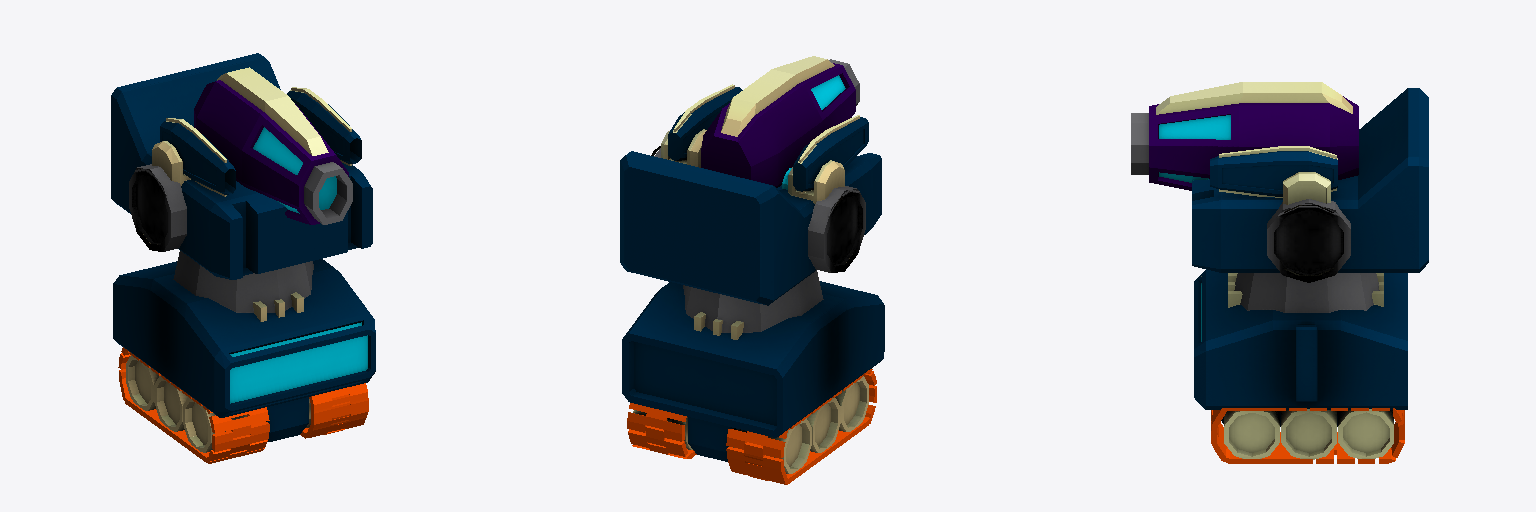
3 views of the same model, side by side, from view 1: azimuth 30°, elevation 25°; view 2: azimuth 150°, elevation 25°; view 3: azimuth 270°, elevation 25° (orthographic).
Parts seen in each view (by area): view 1: Object009, Box029, Object004, Box028; view 2: Object009, Object004, Box029, Box028; view 3: Object009, Object004, Box028.
Part boxes in pixels (x1,y1,x2,y2): Object009: (111,53,375,441); Box029: (118,347,269,463); Object004: (126,169,310,452); Box028: (300,383,368,438); Object009: (620,56,884,461); Object004: (633,146,868,473); Box029: (726,369,876,484); Box028: (627,403,696,458); Object009: (1131,82,1428,426); Object004: (1224,205,1393,459); Box028: (1211,408,1404,463).
Bounding box in the file's own units: 211 × 361 × 287.
Materials: 3 (2 with a texture image).